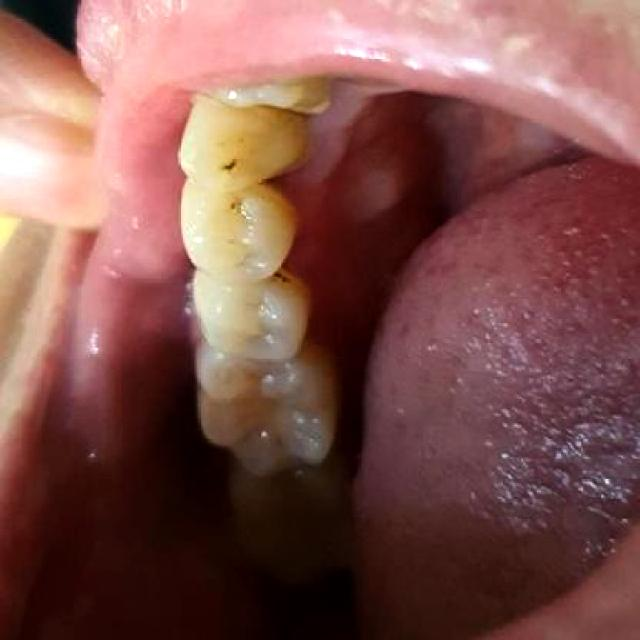Plaque: (214, 153, 253, 178)
